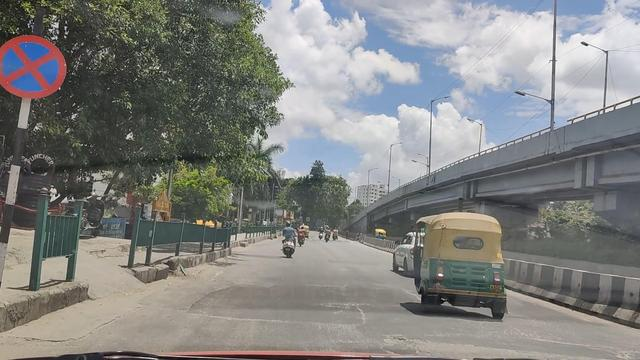LMV: (422, 213, 508, 314)
RoadDamages: (515, 314, 609, 348), (365, 324, 424, 347), (316, 295, 370, 315), (393, 284, 419, 301)
